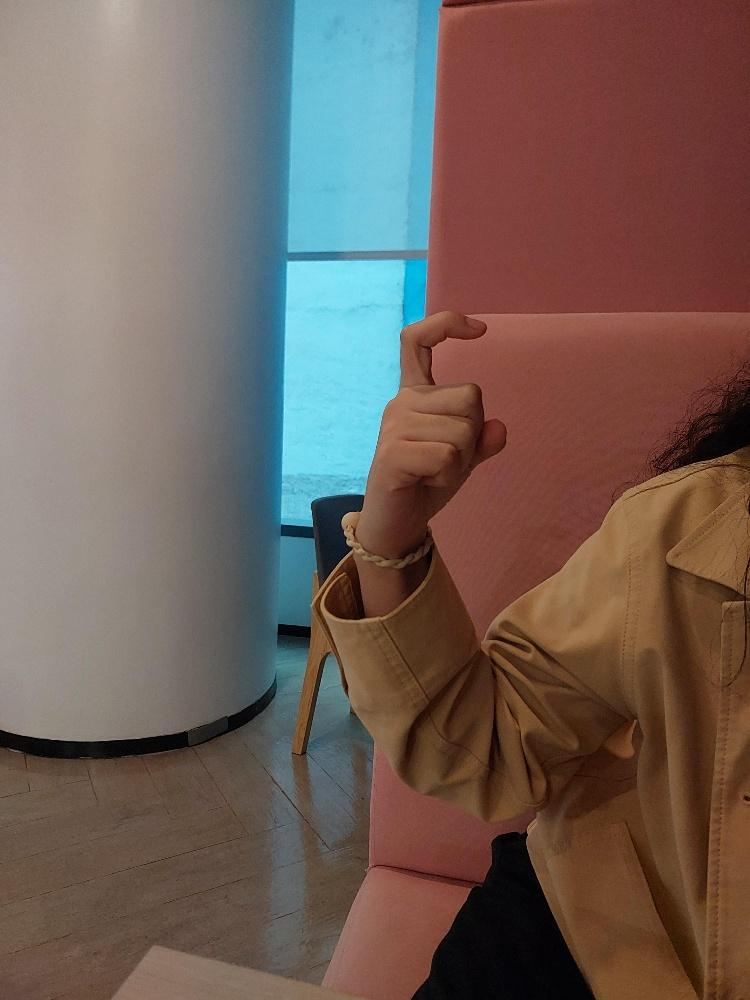x: (352, 300, 514, 572)
